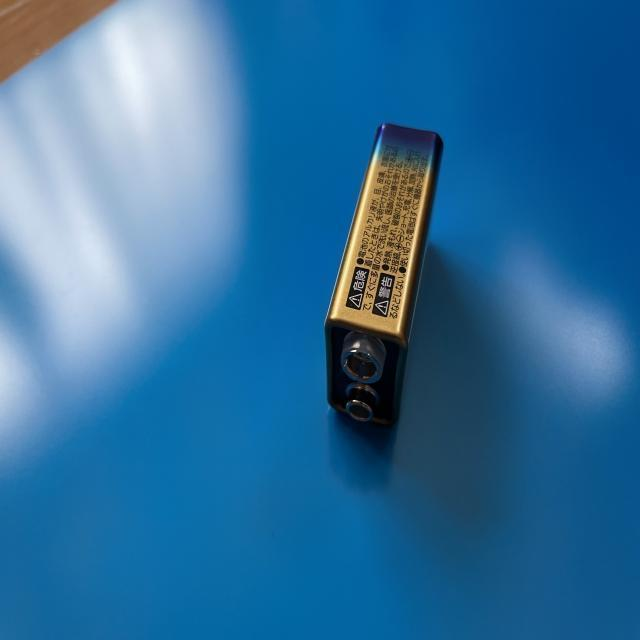9V: (325, 120, 445, 436)
